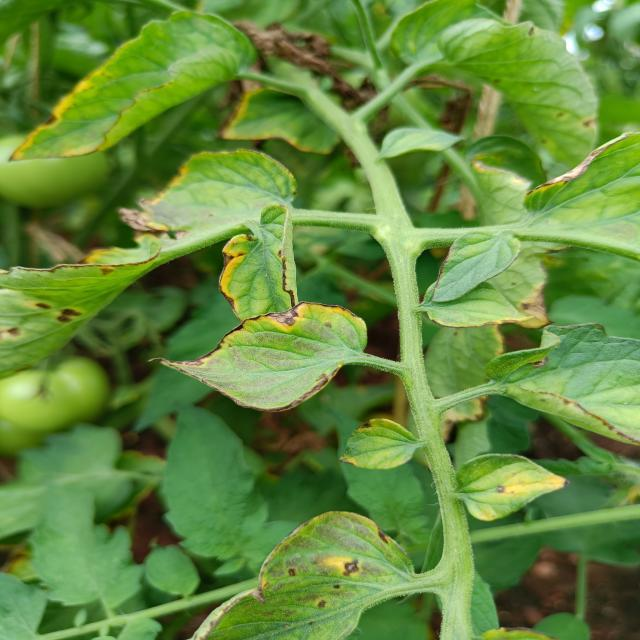Tomato mosaic virus leaf: (188, 510, 412, 640), (141, 296, 369, 414), (446, 450, 574, 524), (214, 221, 303, 311)
